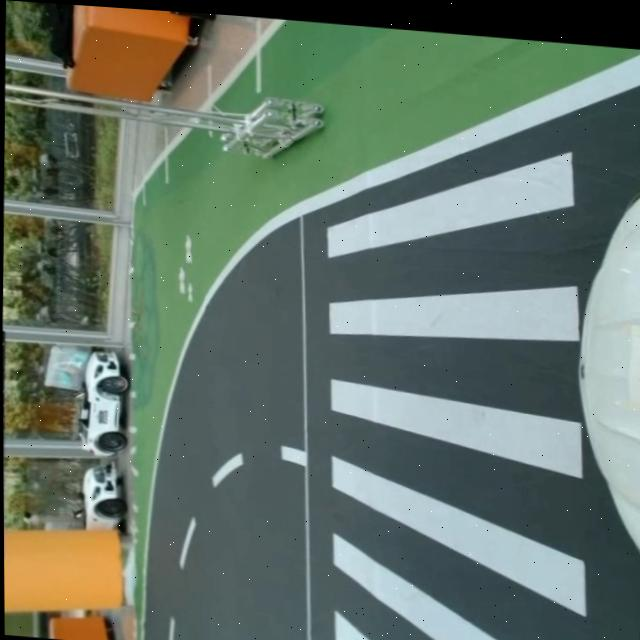traffic-light: (2, 329, 12, 564)
